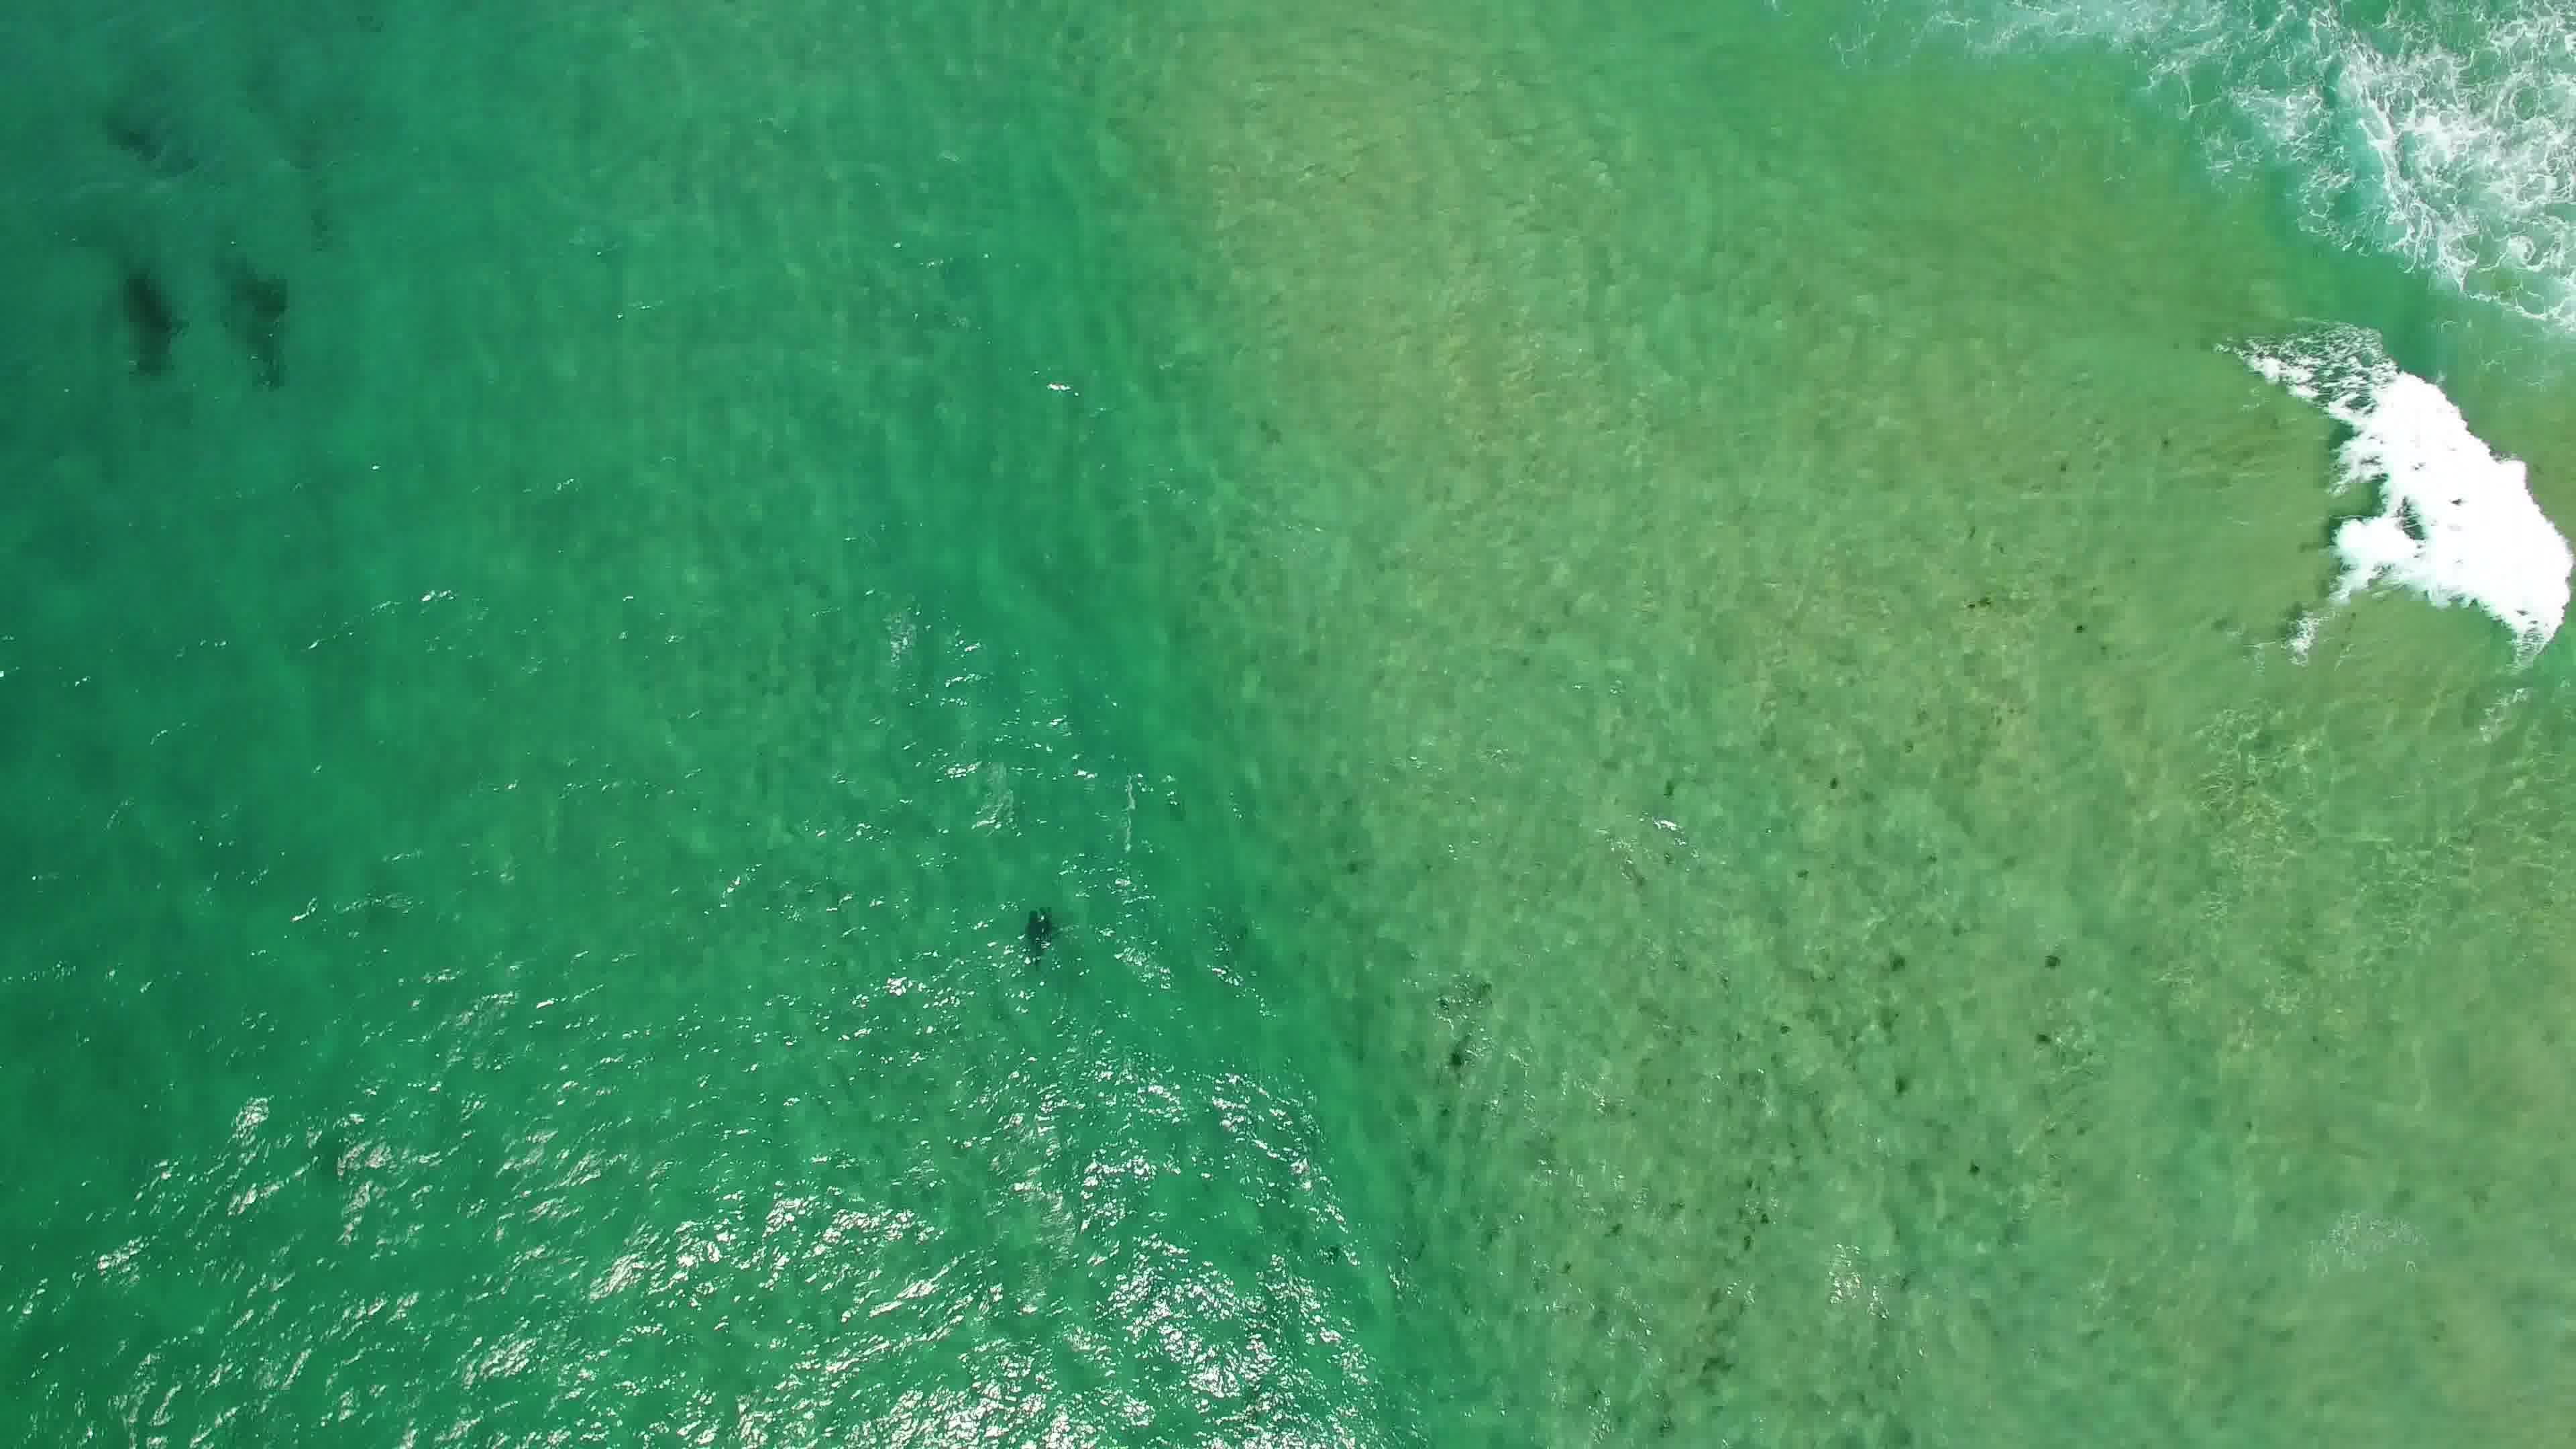shark: (1016, 902, 1058, 977)
